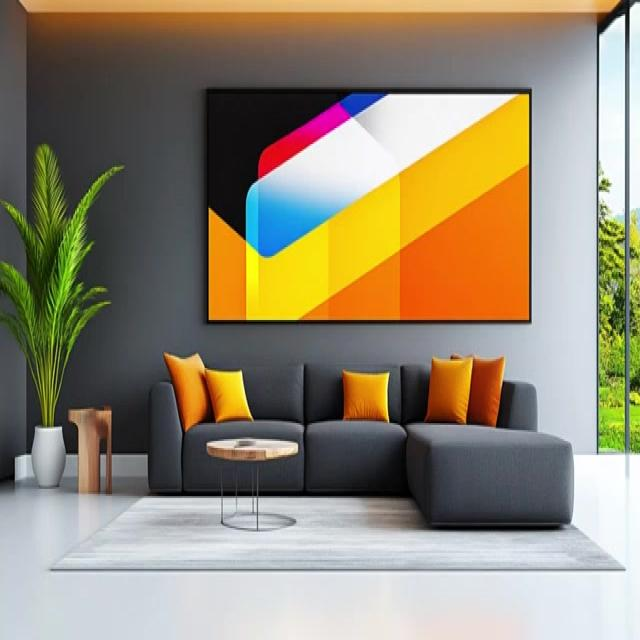obstacle: (147, 357, 574, 530), (205, 436, 298, 532)
